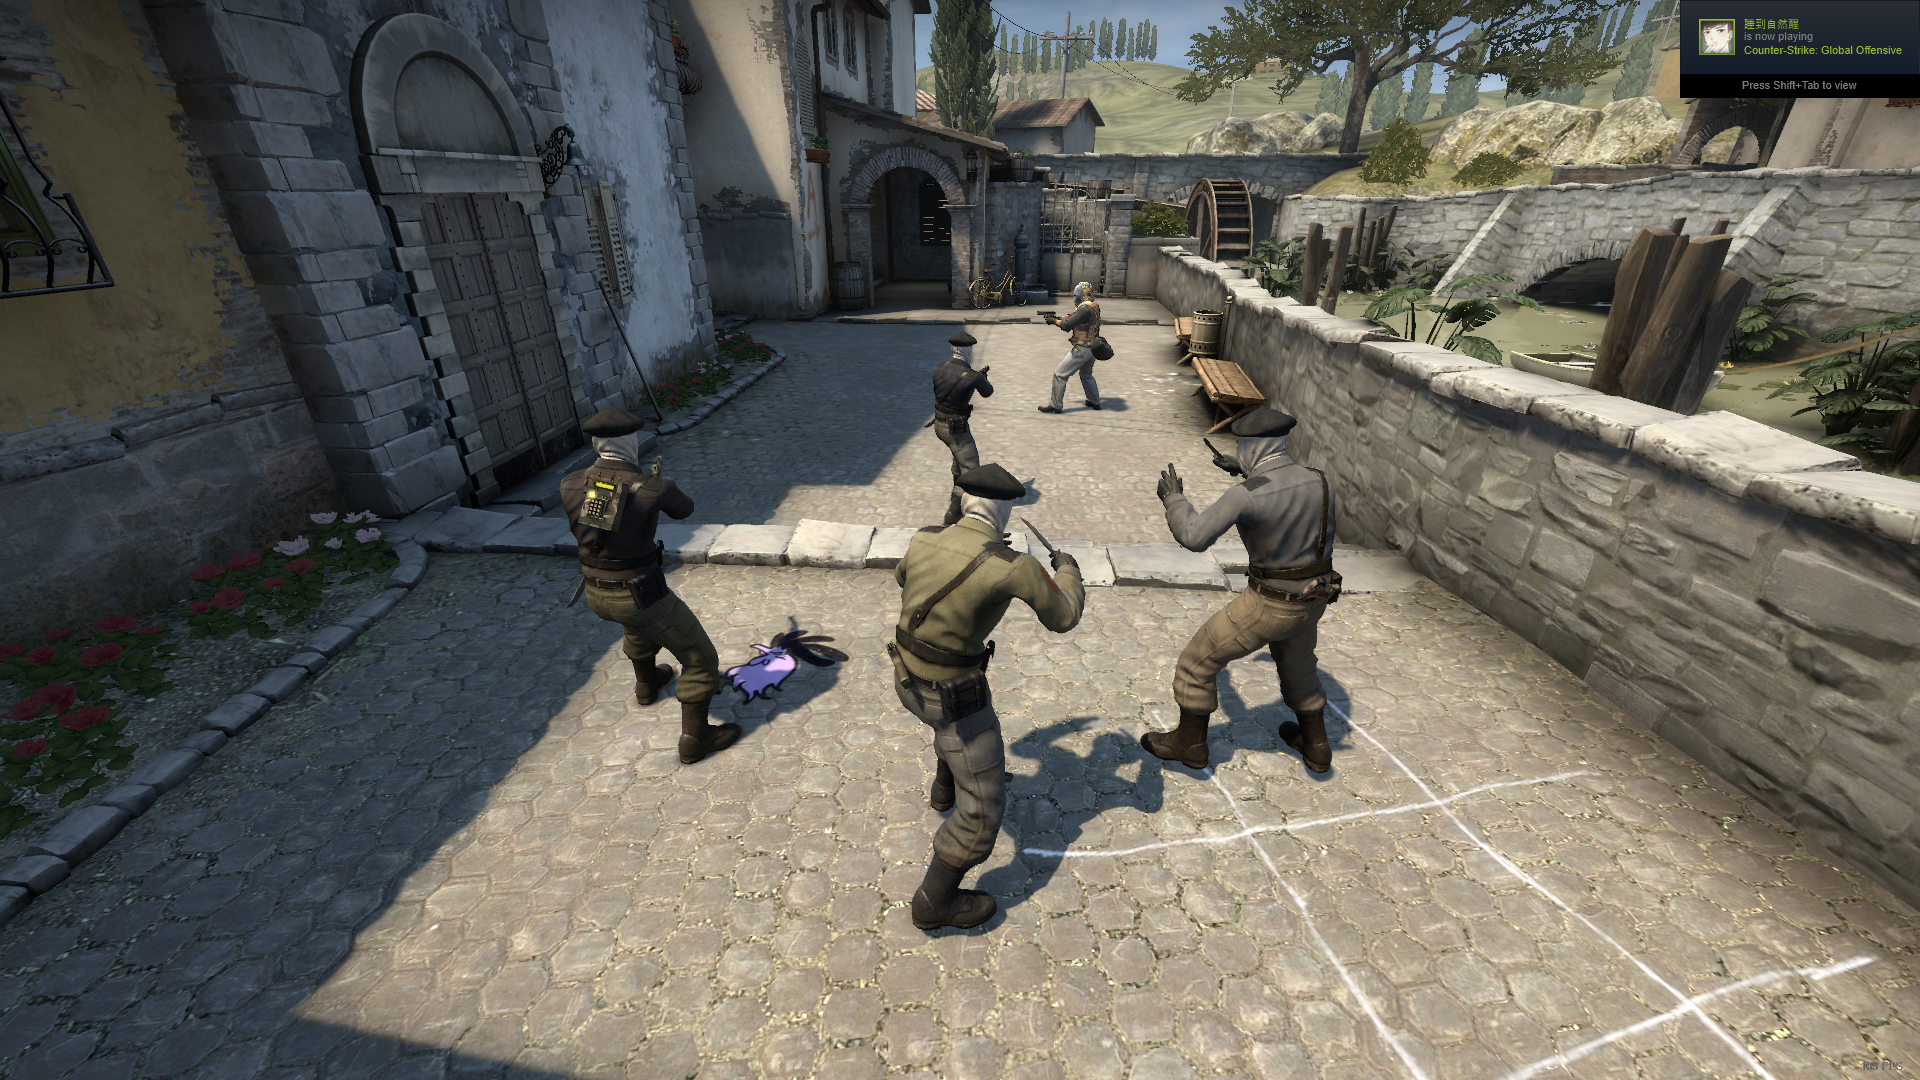t: (887, 463, 1087, 928), (1138, 405, 1346, 775), (559, 405, 742, 764), (934, 334, 996, 463)
